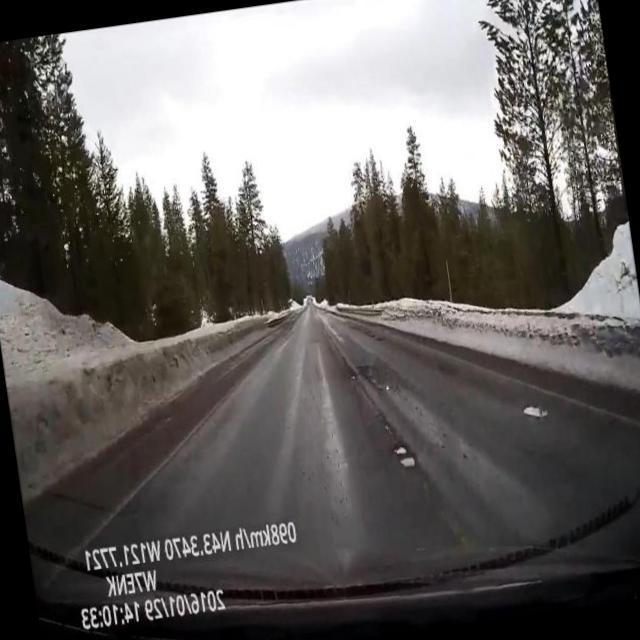Pothole: (522, 404, 549, 419), (399, 455, 417, 469), (393, 445, 408, 457)
